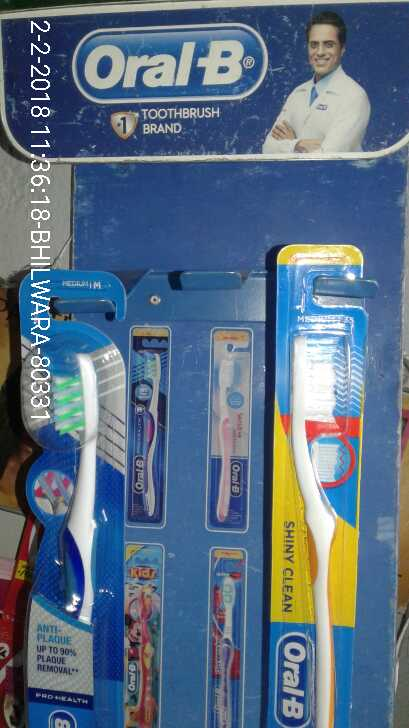oralb: (265, 284, 342, 728)
